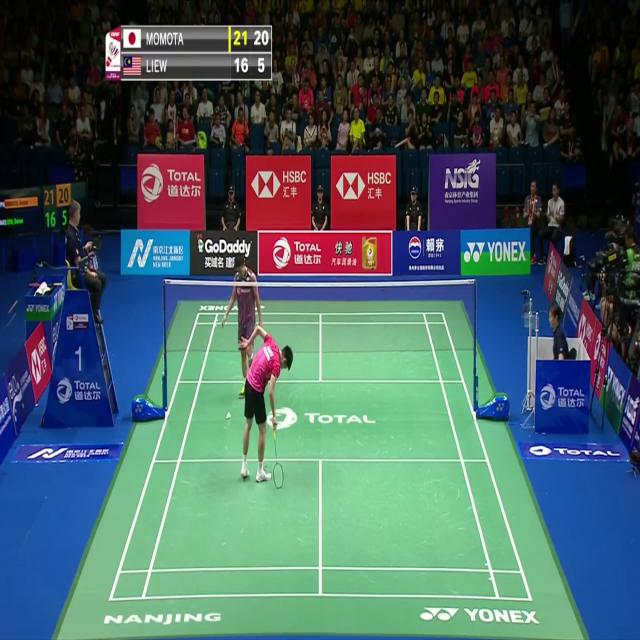Shuttlecock: (225, 410, 231, 422)
